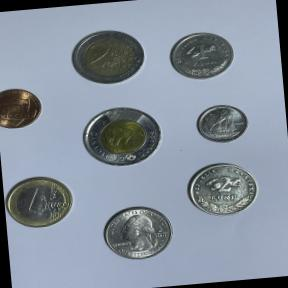1 Euro: (2, 170, 78, 236)
2 Euro: (65, 23, 154, 95)
Canda-10cent-: (191, 100, 253, 151)
Canda-2Dollar-: (76, 101, 168, 174)
Croatia-2Kune-: (181, 157, 265, 224)
US-1cent-: (0, 82, 46, 134)
US-25cent-: (97, 200, 181, 268)
